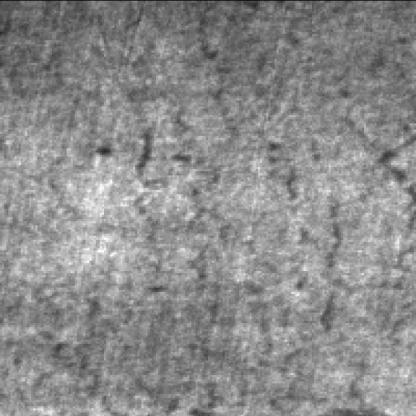crazing: (198, 2, 347, 410), (10, 237, 240, 412), (306, 54, 414, 368), (104, 29, 237, 281)
